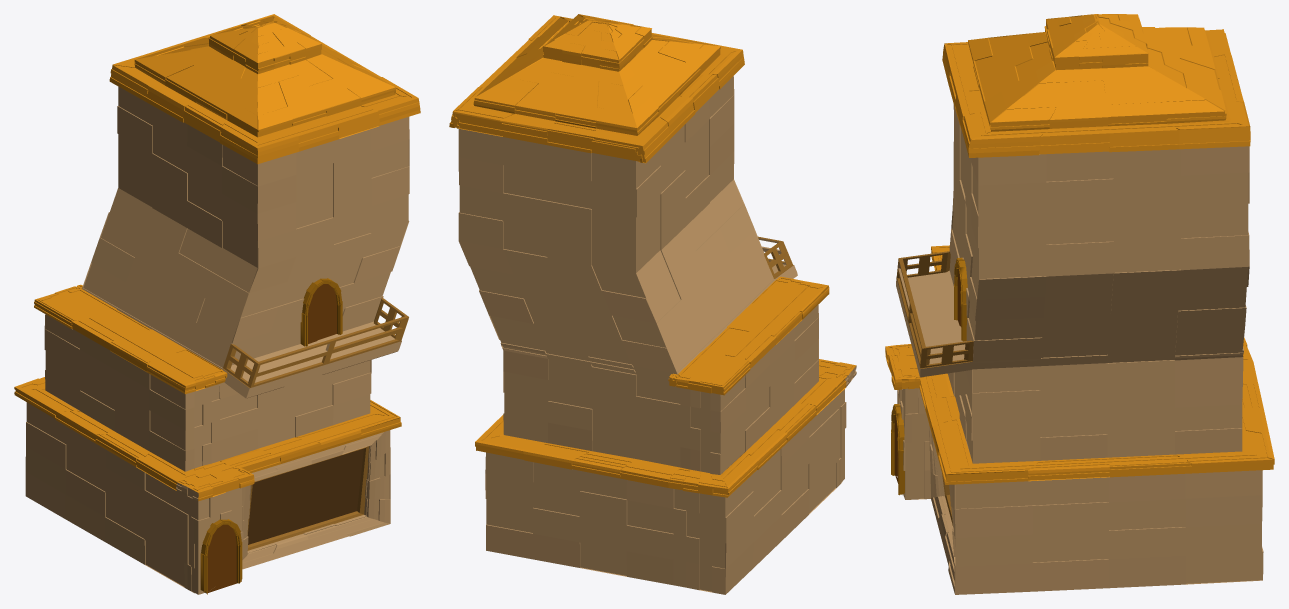
The model's file is Shop_Building_4.fbx.
3 renders of one model, left to right at view 1: azimuth 30°, elevation 25°; view 2: azimuth 150°, elevation 25°; view 3: azimuth 270°, elevation 25°, orthographic. The views are drawn at different scales.
Parts seen in each view (by area): view 1: Cube.629, Cube.630, Cube.631; view 2: Cube.629; view 3: Cube.629, Cube.630, Cube.631.
Part boxes in pixels (left/top/right/bottom): Cube.629: left=14, top=14, right=420, bottom=594; Cube.630: left=200, top=519, right=242, bottom=594; Cube.631: left=300, top=278, right=342, bottom=346; Cube.629: left=449, top=14, right=856, bottom=594; Cube.629: left=885, top=14, right=1274, bottom=594; Cube.630: left=891, top=404, right=904, bottom=495; Cube.631: left=954, top=257, right=967, bottom=341.
Size of the model in its own units: 1235 by 1924 by 1256.
